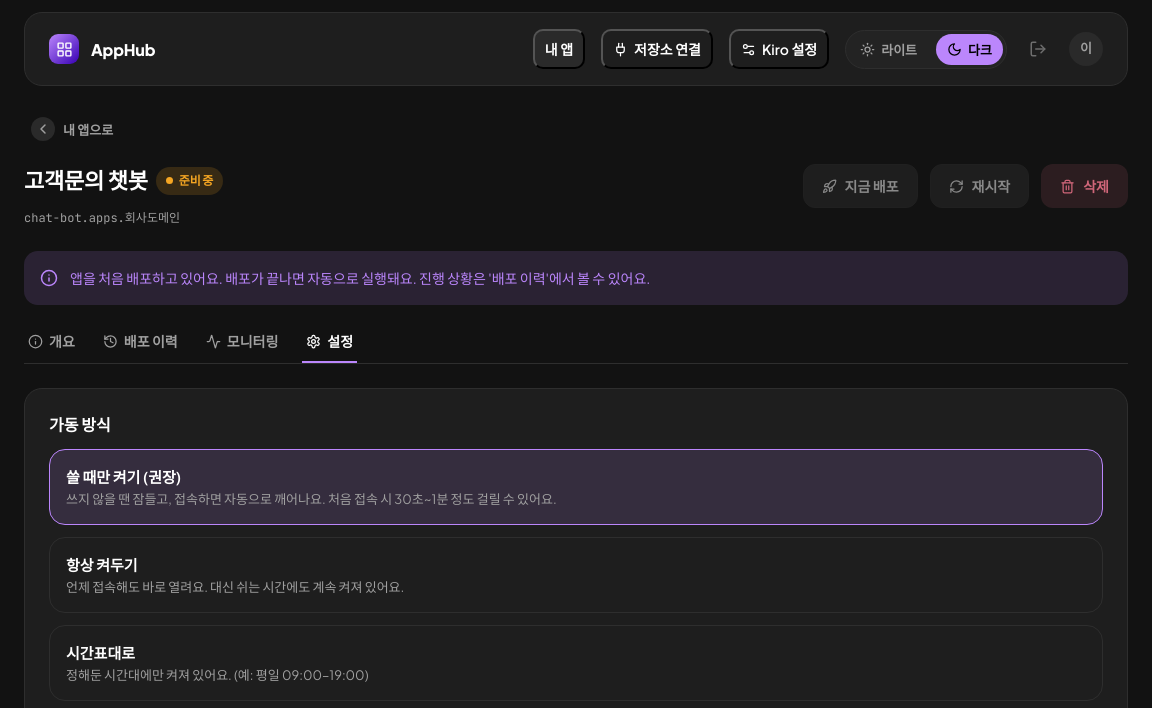
Test case: D8 비밀값 변경 시 확인 후 재배포 › 비밀값을 바꾸고 저장하면 재배포 확인 모달이 뜬다(아직 요청 안 보냄)
Expected: the heading "고객문의 챗봇 준비 중" is shown, [24, 164, 223, 197]
Step 1. Click the tab "설정" → {"x": 330, "y": 342}, box [302, 321, 357, 363]
(page scrolled)
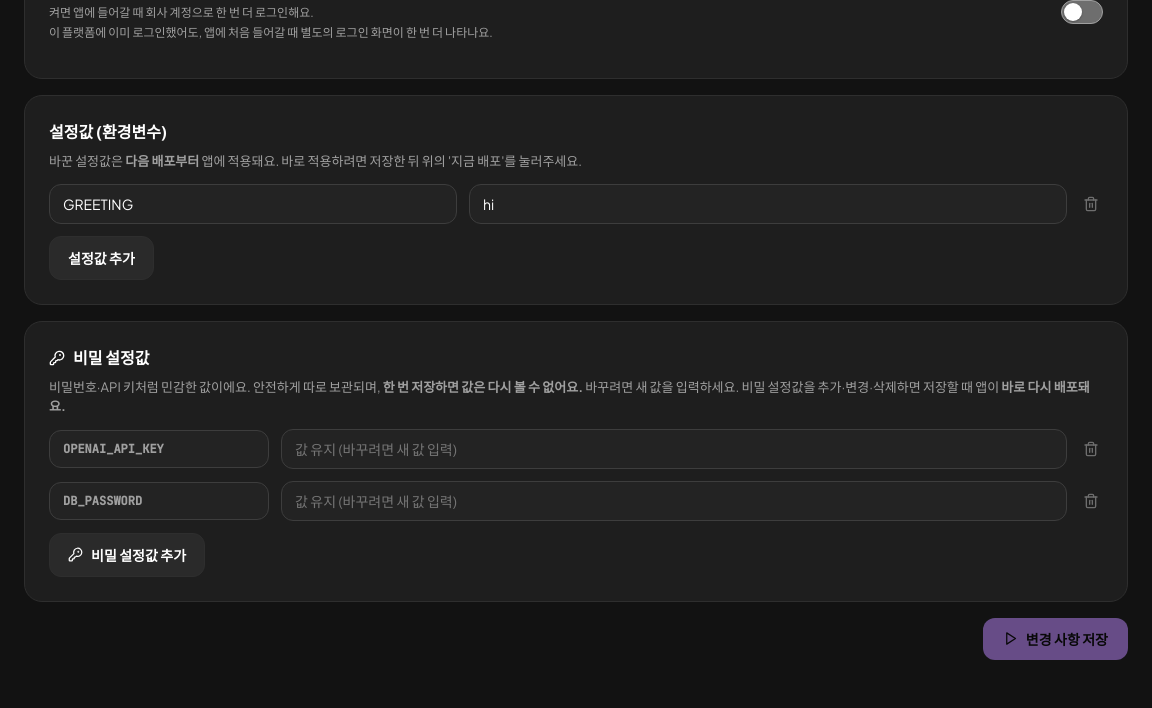
Expected: the heading "비밀 설정값" is shown, [49, 347, 150, 368]
Step 2. Type "sk-new" into the 1st password field with placeholder "값 유지 (바꾸려면 새 값 입력)" → {"x": 674, "y": 449}, box [281, 429, 1067, 469]
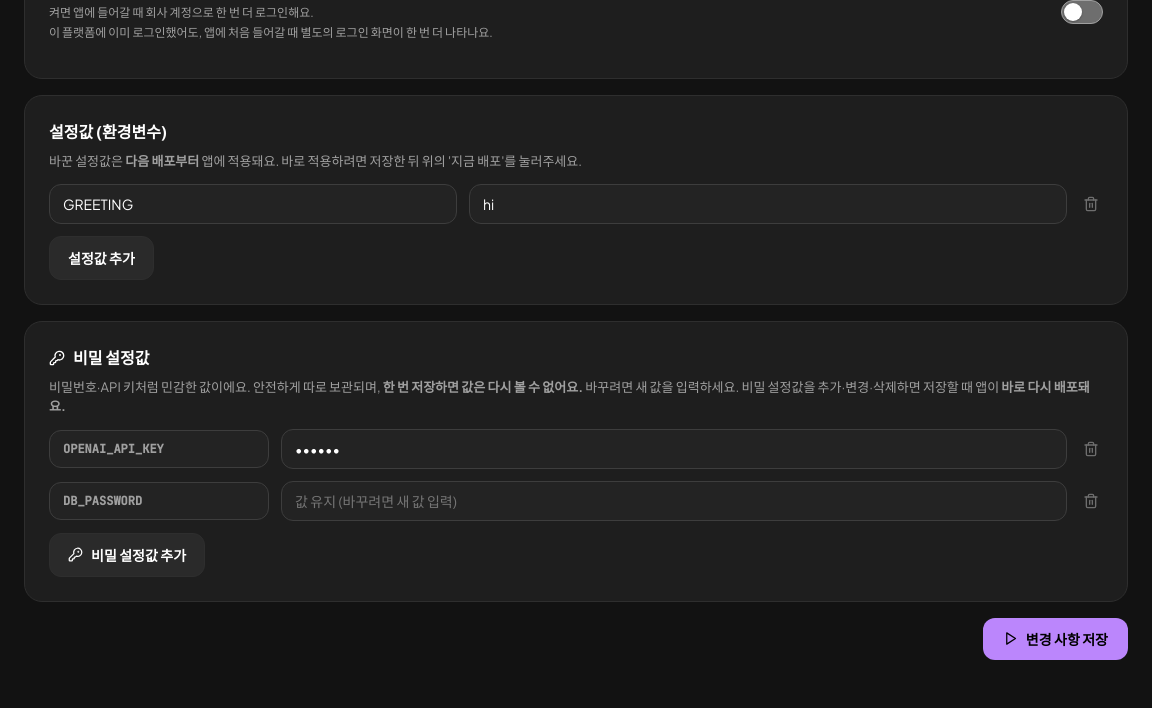
Step 3. Click the button "변경 사항 저장" → {"x": 1055, "y": 639}, box [983, 618, 1128, 660]
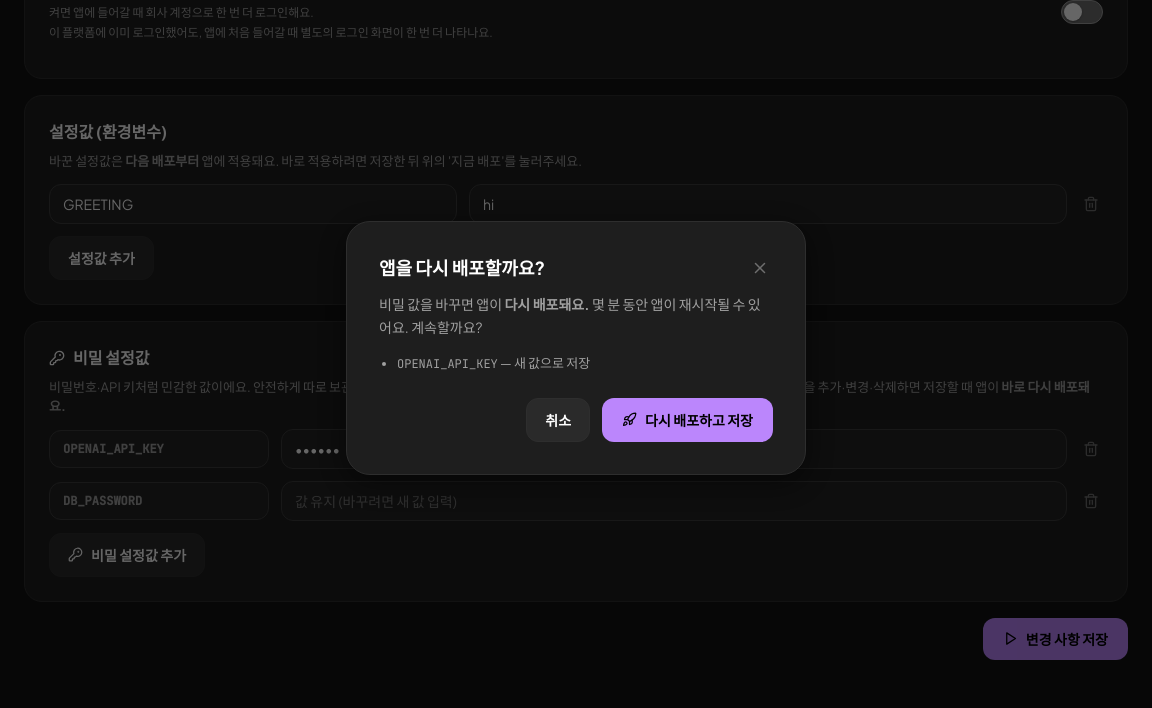
Now the dialog "앱을 다시 배포할까요?" shows "비밀 값을 바꾸면 앱이 다시 배포돼요", box [346, 221, 806, 475]
Now the dialog "앱을 다시 배포할까요?" shows "몇 분 동안 앱이 재시작될 수 있어요", box [379, 295, 761, 336]
Now the dialog "앱을 다시 배포할까요?" shows "OPENAI_API_KEY", box [397, 356, 498, 372]
